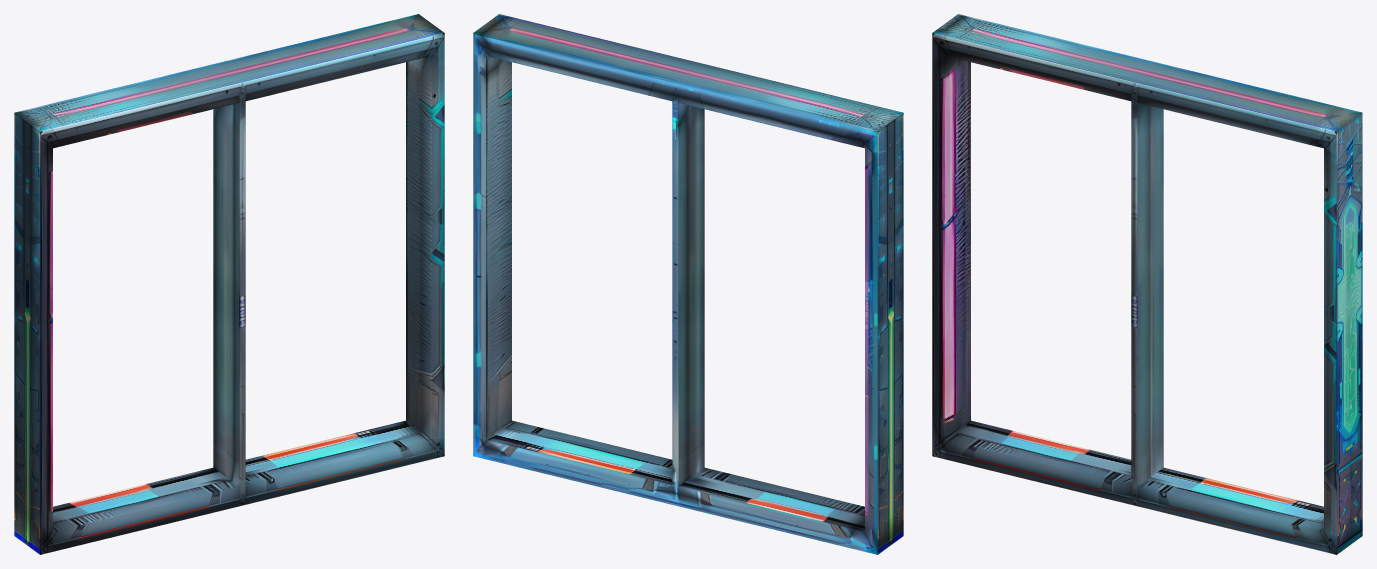
File: commercialBasicWindowedWall.glb
The picture shows the model from 3 angles, left to right: view 1: azimuth 30°, elevation 25°; view 2: azimuth 150°, elevation 25°; view 3: azimuth 330°, elevation 25°; orthographic projection.
Parts seen in each view (by area): view 1: commercialBasicWindowedWall; view 2: commercialBasicWindowedWall; view 3: commercialBasicWindowedWall.
Part boxes in pixels (left/top/right/bottom): commercialBasicWindowedWall: left=14, top=14, right=444, bottom=554; commercialBasicWindowedWall: left=473, top=14, right=903, bottom=554; commercialBasicWindowedWall: left=932, top=14, right=1362, bottom=554.
Size of the model in its own units: 1 by 1 by 0.1111.
Materials: 1 (1 with a texture image).
